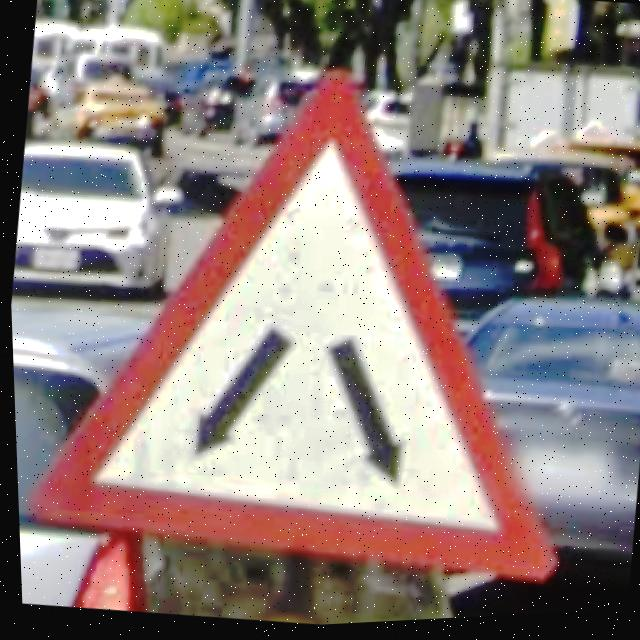diverge: (27, 73, 557, 590)
